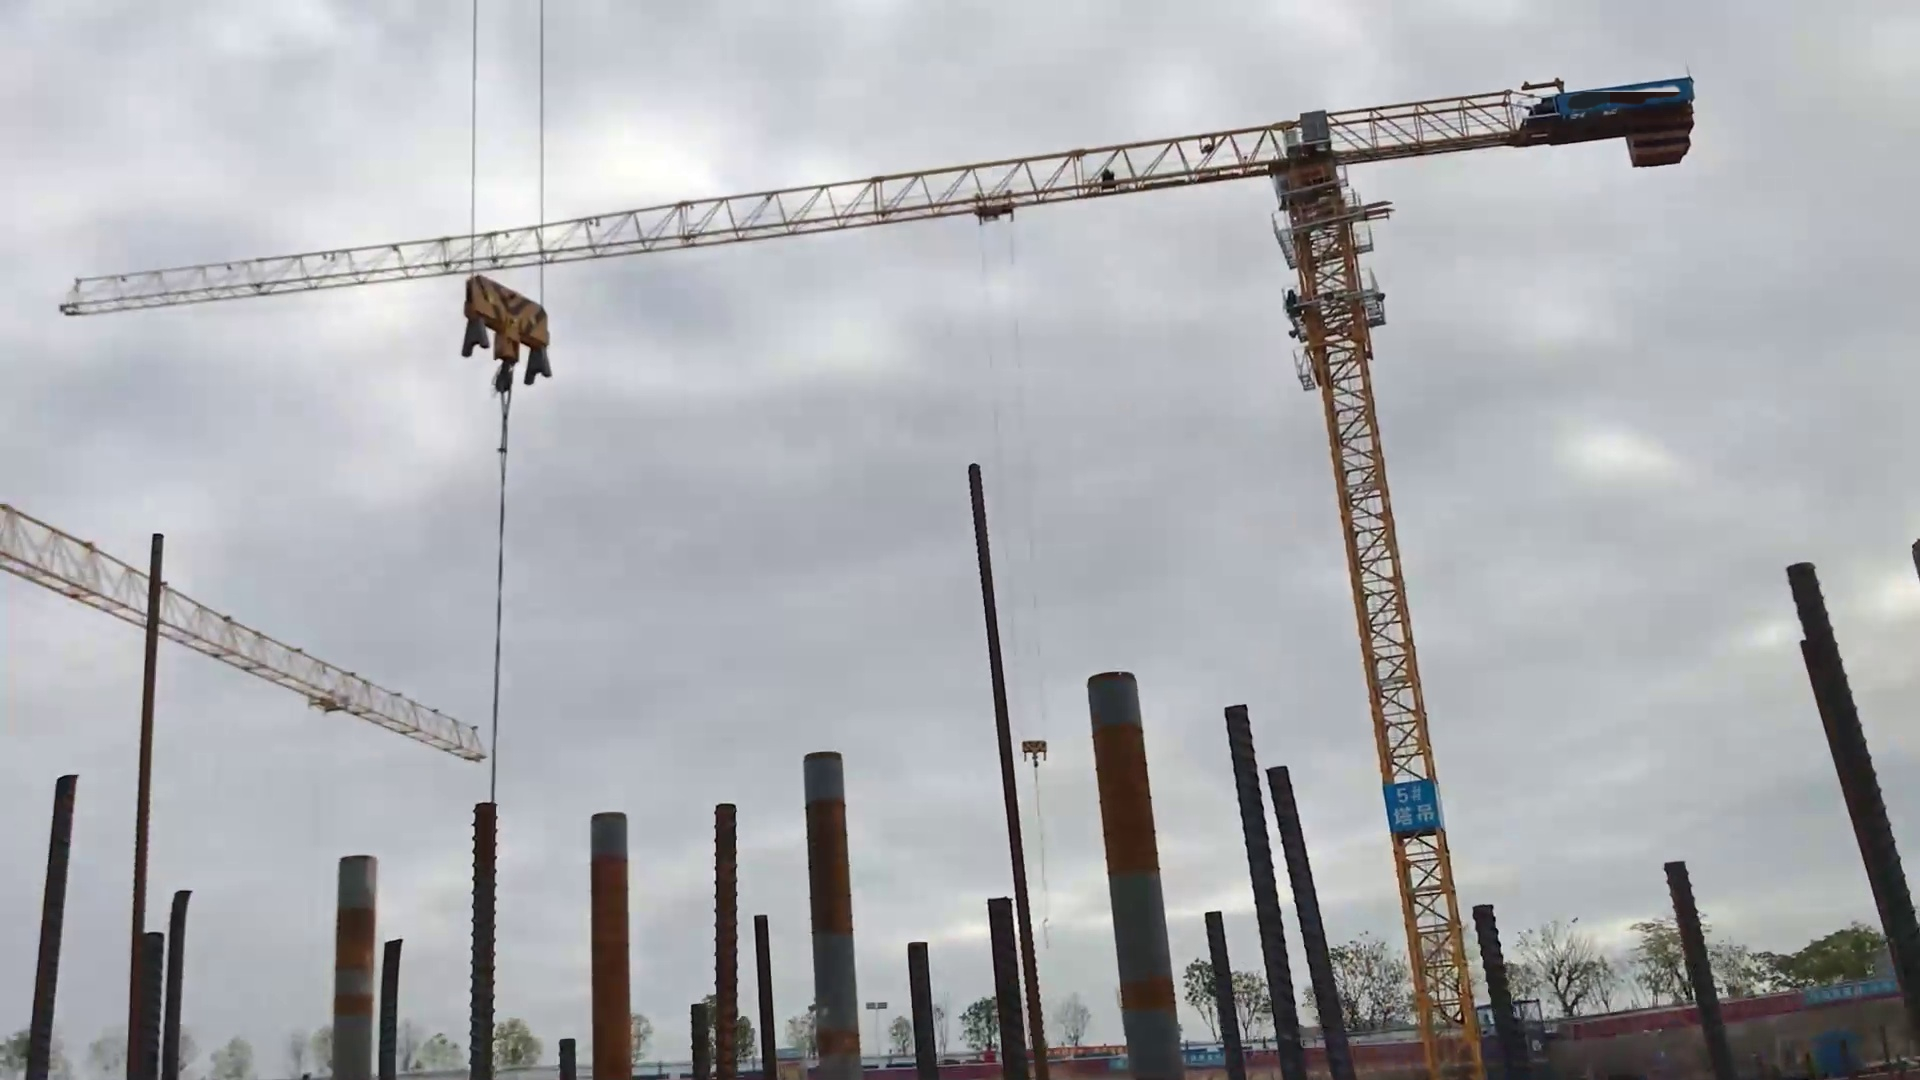fence: (1548, 975, 1695, 1048), (1722, 981, 1787, 1036), (1349, 1026, 1419, 1073)
hook: (454, 269, 560, 401), (1019, 735, 1055, 771)
slogan: (1791, 968, 1908, 1015), (1378, 771, 1451, 841)
